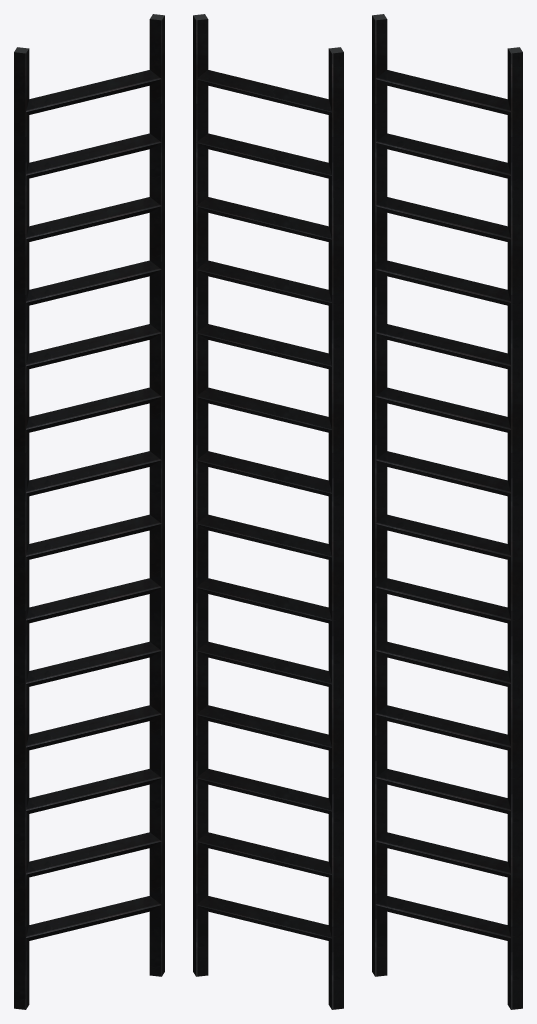
Rendered from sewer_ladder001.FBX.
The picture shows the model from 3 angles, left to right: view 1: azimuth 30°, elevation 25°; view 2: azimuth 150°, elevation 25°; view 3: azimuth 330°, elevation 25°; orthographic projection.
Parts seen in each view (by area): view 1: sewer_ladder001; view 2: sewer_ladder001; view 3: sewer_ladder001.
Boxes of the visible parts, bbox=[...] form: sewer_ladder001: bbox=[14, 14, 164, 1009]; sewer_ladder001: bbox=[193, 14, 343, 1009]; sewer_ladder001: bbox=[372, 14, 522, 1009].
Bounding box in the file's own units: 282 × 1707 × 28.28.
